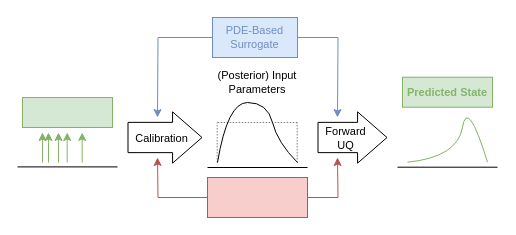
The diagram is 516 pixels wide and 235 high, and some of its shapes have lost their labels. Each missing label, with the centre of its shape:
"Calibration Data" belongs at [67,112].
"Expensive Model Domain Expertise" belongs at [257,197].
